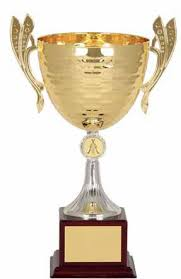trophy: (10, 12, 177, 279)
